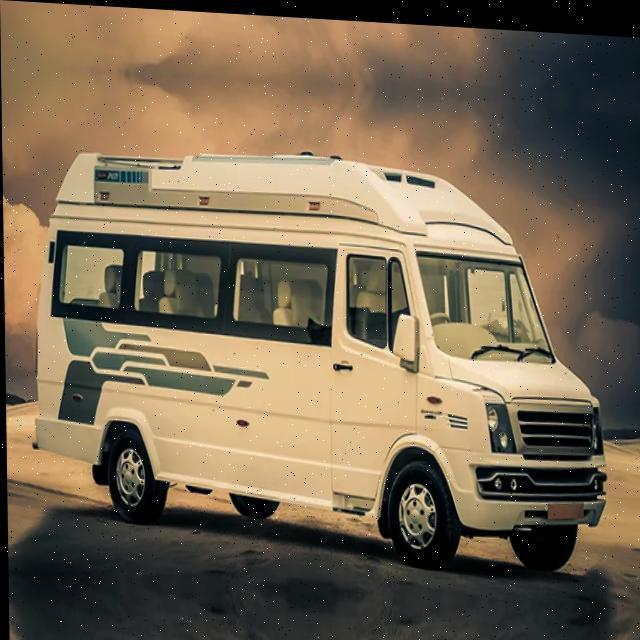Ambulance: (25, 129, 612, 576), (6, 394, 640, 640)
